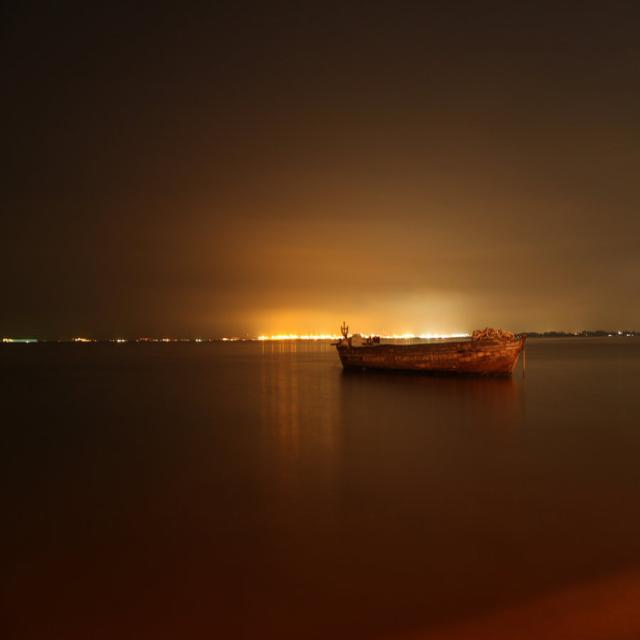Boat: (321, 302, 535, 405)
